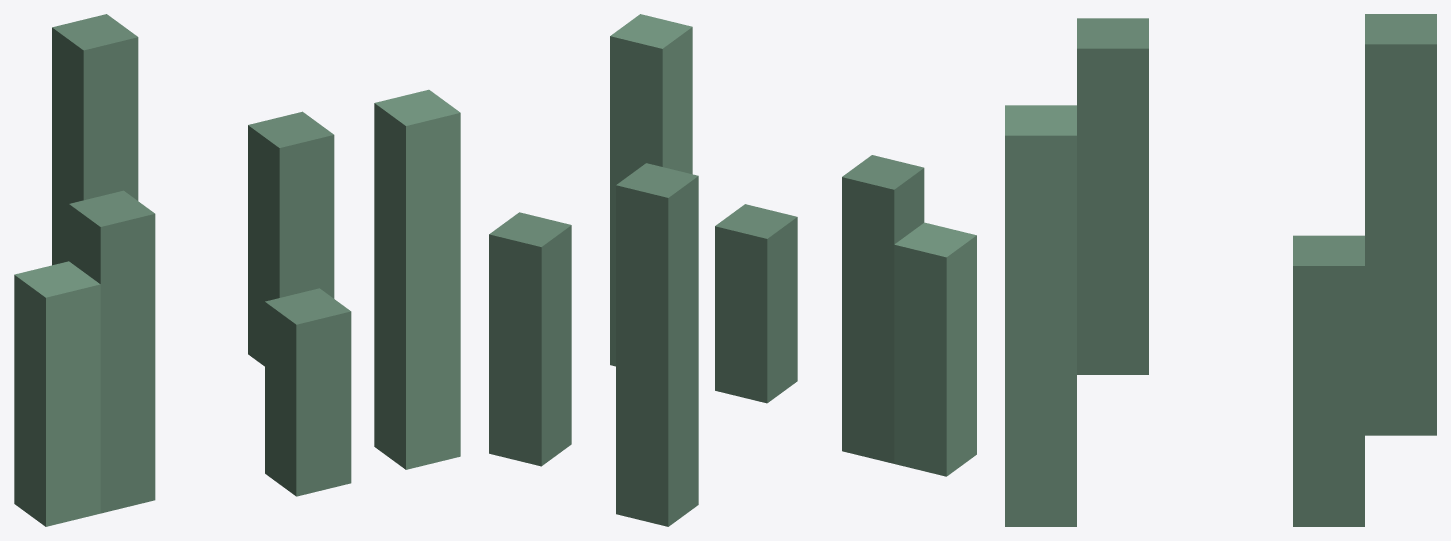
Rendered from algas_varadas_01.glb.
3 renders of one model, left to right at view 1: azimuth 30°, elevation 25°; view 2: azimuth 150°, elevation 25°; view 3: azimuth 270°, elevation 25°, orthographic. The views are drawn at different scales.
Parts seen in each view (by area): view 1: algas_varadas_01; view 2: algas_varadas_01; view 3: algas_varadas_01.
Part boxes in pixels (x1=…): algas_varadas_01: x1=14, y1=14, x2=460, y2=526; algas_varadas_01: x1=489, y1=14, x2=976, y2=526; algas_varadas_01: x1=1005, y1=14, x2=1436, y2=526.
Size of the model in its own units: 0.7 by 0.6 by 0.6.
